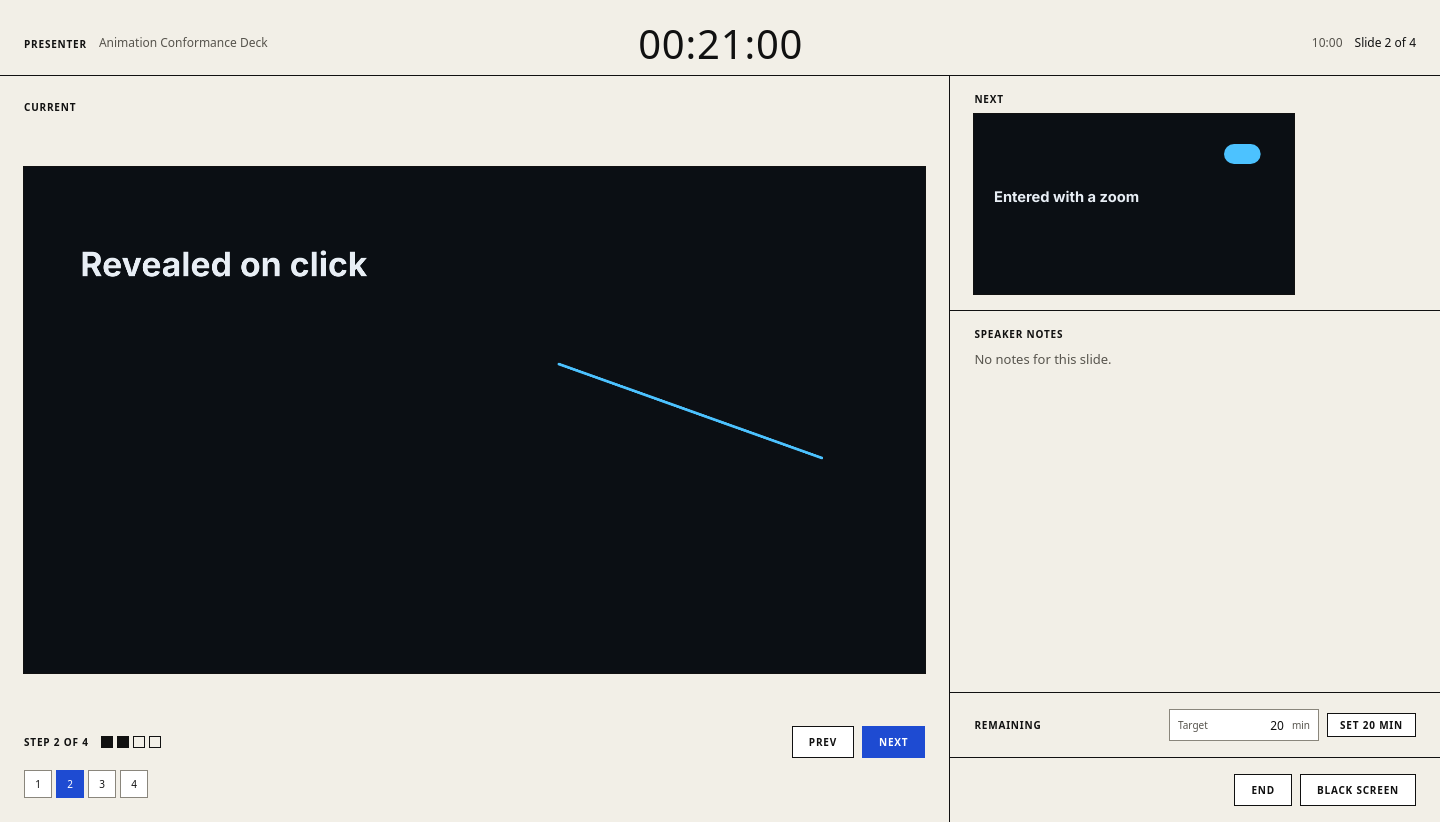
Test case: PresenterView › counts down only once a target is set, and says 'over' past it
Expected: the text "over" is not shown
Click the button "Set 20 min": (1372, 725) [1327,713,1416,737]
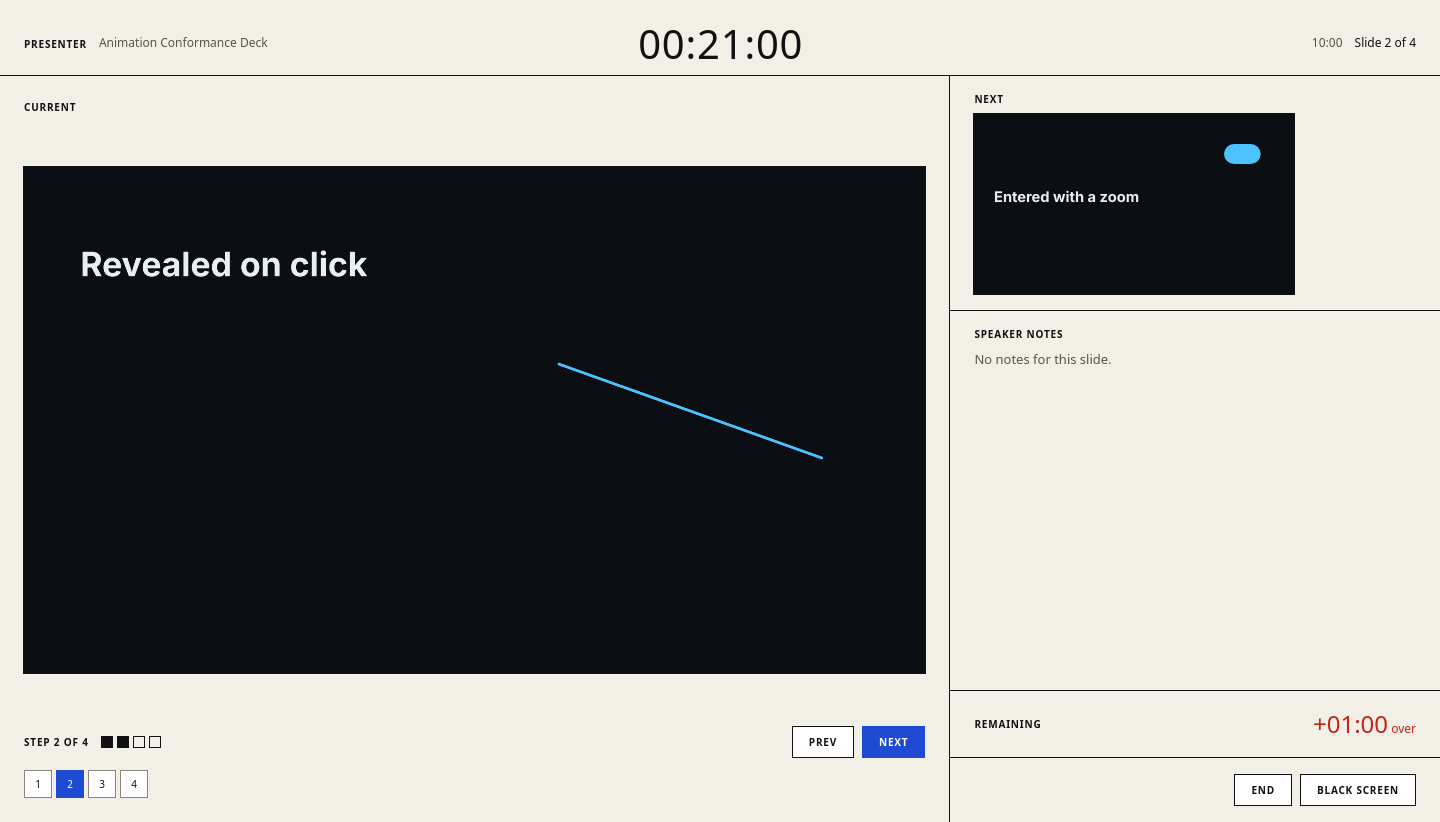
Now the button "+01:00 over" is shown, box [1313,707,1416,741]
Now the text "over" is shown, box [1388,720,1416,737]
